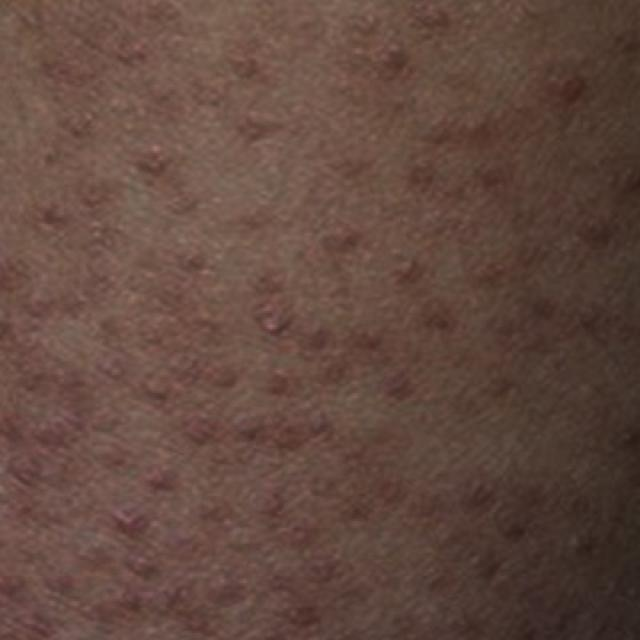keratosis pilaris: (21, 0, 638, 638)
